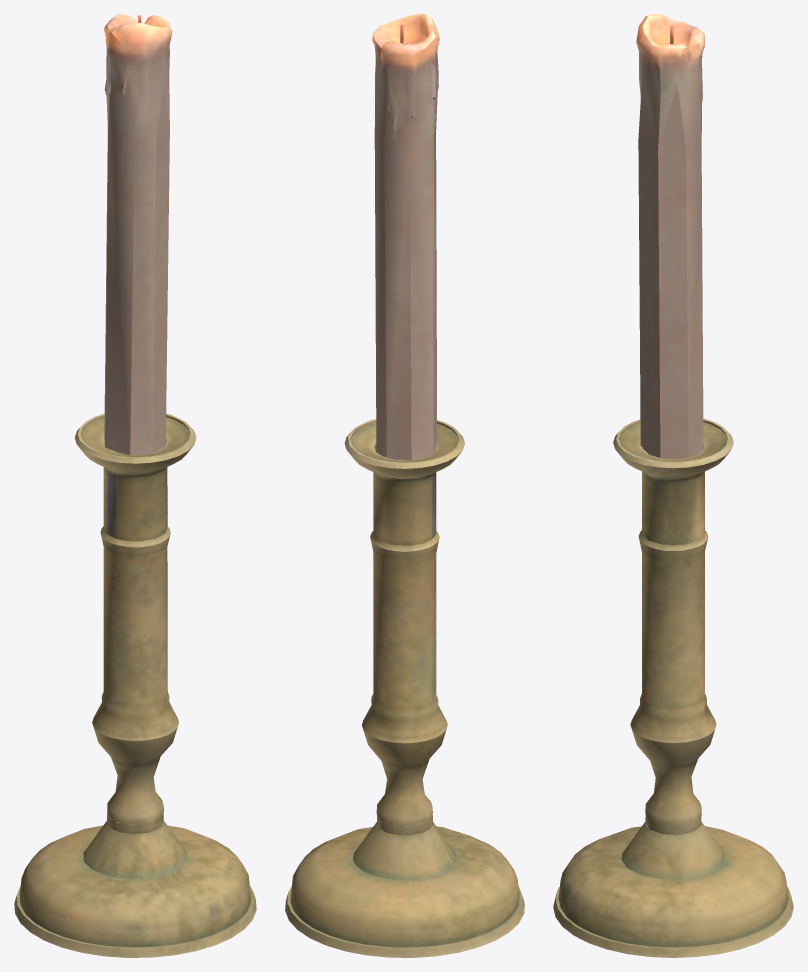
File: candlestick-brass-a.glb
The picture shows the model from 3 angles, left to right: view 1: azimuth 30°, elevation 25°; view 2: azimuth 150°, elevation 25°; view 3: azimuth 270°, elevation 25°; orthographic projection.
Parts seen in each view (by area): view 1: candlestick-brass-a; view 2: candlestick-brass-a; view 3: candlestick-brass-a.
Part boxes in pixels (box(x1,y1,x2,y2)): candlestick-brass-a: box(14, 14, 256, 957); candlestick-brass-a: box(285, 14, 524, 957); candlestick-brass-a: box(553, 14, 793, 957).
Bounding box in the file's own units: 0.08 × 0.3252 × 0.08.
Materials: 1 (1 with a texture image).
